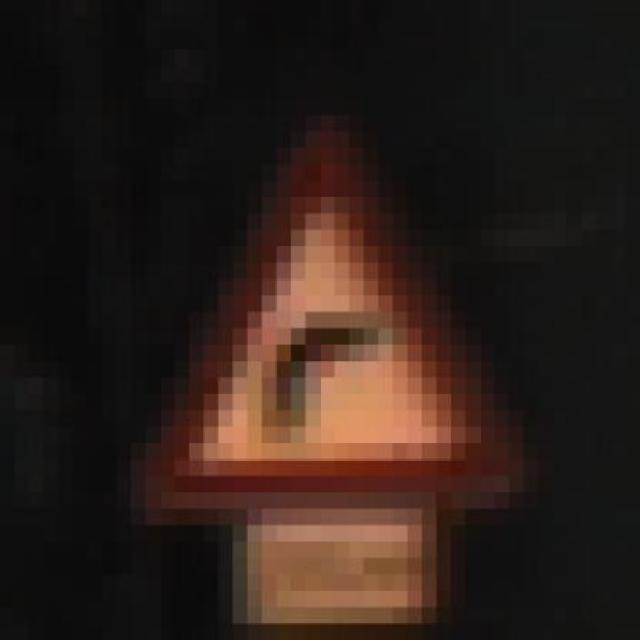Dangerous Rright Curve Ahead: (101, 114, 538, 508)
